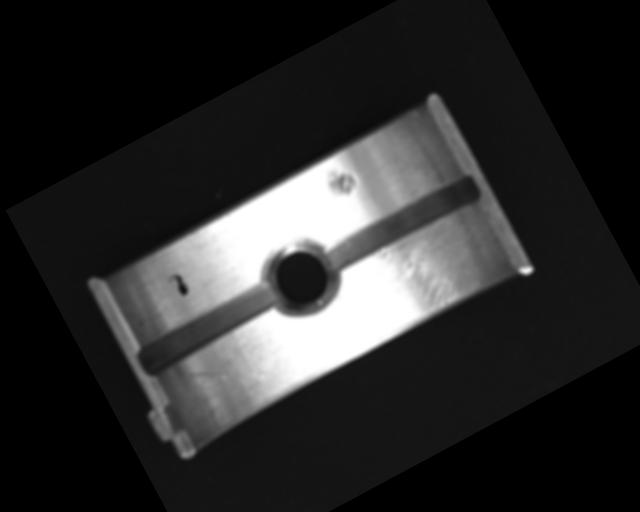blot: (165, 271, 192, 300)
bruise: (320, 159, 360, 202)
gap: (317, 168, 486, 280), (133, 279, 280, 377)
hole: (249, 229, 348, 329)
nick: (180, 339, 267, 413)
scratch: (334, 200, 511, 349)
